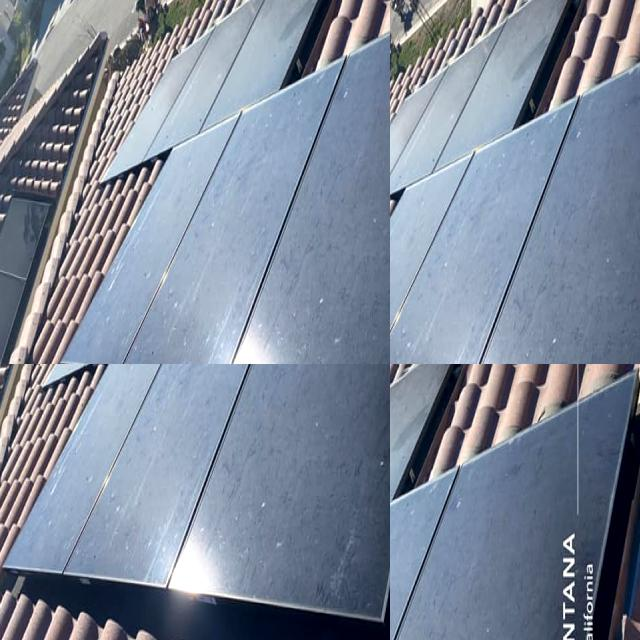bird: (110, 252, 168, 334), (95, 114, 148, 190), (40, 202, 86, 272), (31, 294, 73, 364), (0, 128, 48, 181)
dust: (461, 474, 549, 640), (390, 569, 445, 640), (390, 447, 439, 503), (390, 374, 420, 463)
panel: (390, 229, 562, 340), (524, 250, 640, 355)
